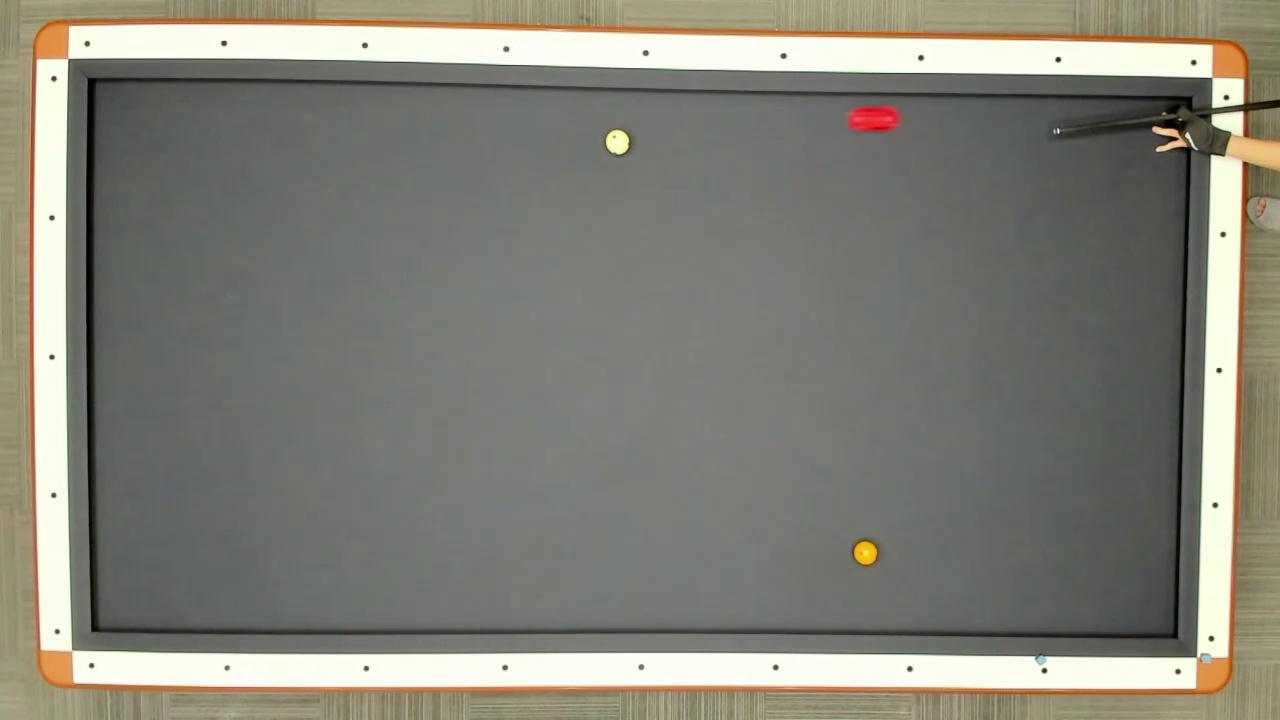Red: (846, 102, 900, 134)
White: (604, 128, 632, 158)
Yellow: (850, 538, 880, 568)
